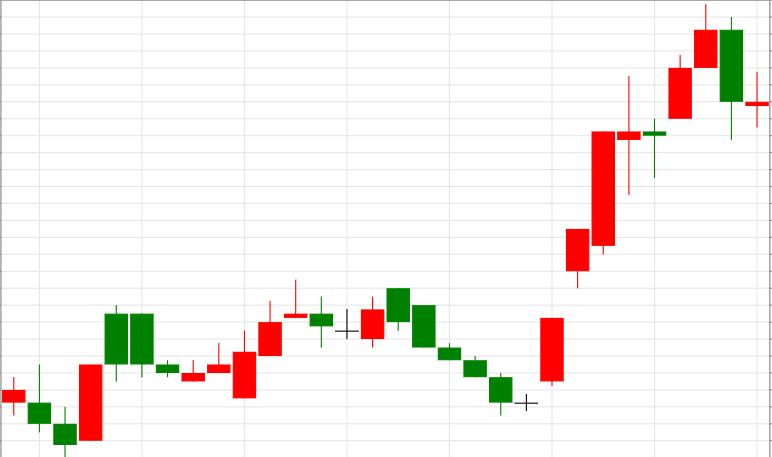morning_star_rise: (387, 288, 564, 415)
